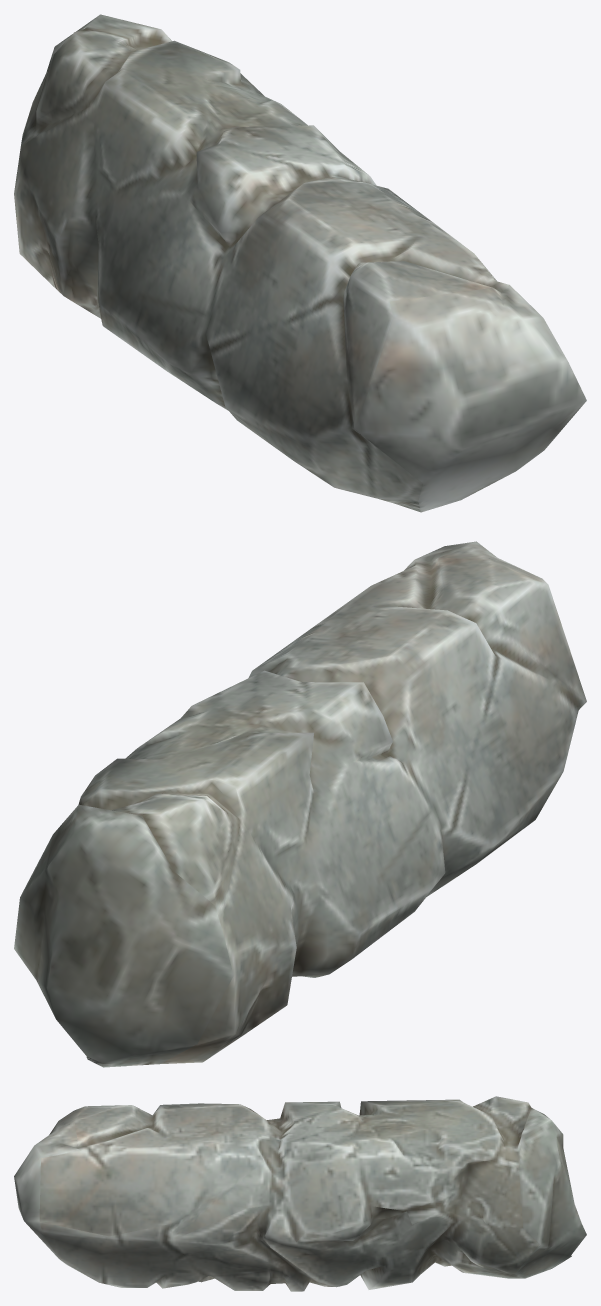
Rendered from VD_Basalt_Single_D.fbx.
3 renders of one model, top to bottom at view 1: azimuth 30°, elevation 25°; view 2: azimuth 150°, elevation 25°; view 3: azimuth 270°, elevation 25°, orthographic. The views are drawn at different scales.
Visible parts, largest first — view 1: VD_Basalt_Single_D; view 2: VD_Basalt_Single_D; view 3: VD_Basalt_Single_D.
Part boxes in pixels (<box>): VD_Basalt_Single_D: <box>14,14,586,512</box>; VD_Basalt_Single_D: <box>14,541,586,1067</box>; VD_Basalt_Single_D: <box>14,1096,586,1291</box>.
Size of the model in its own units: 259 by 252 by 793.
